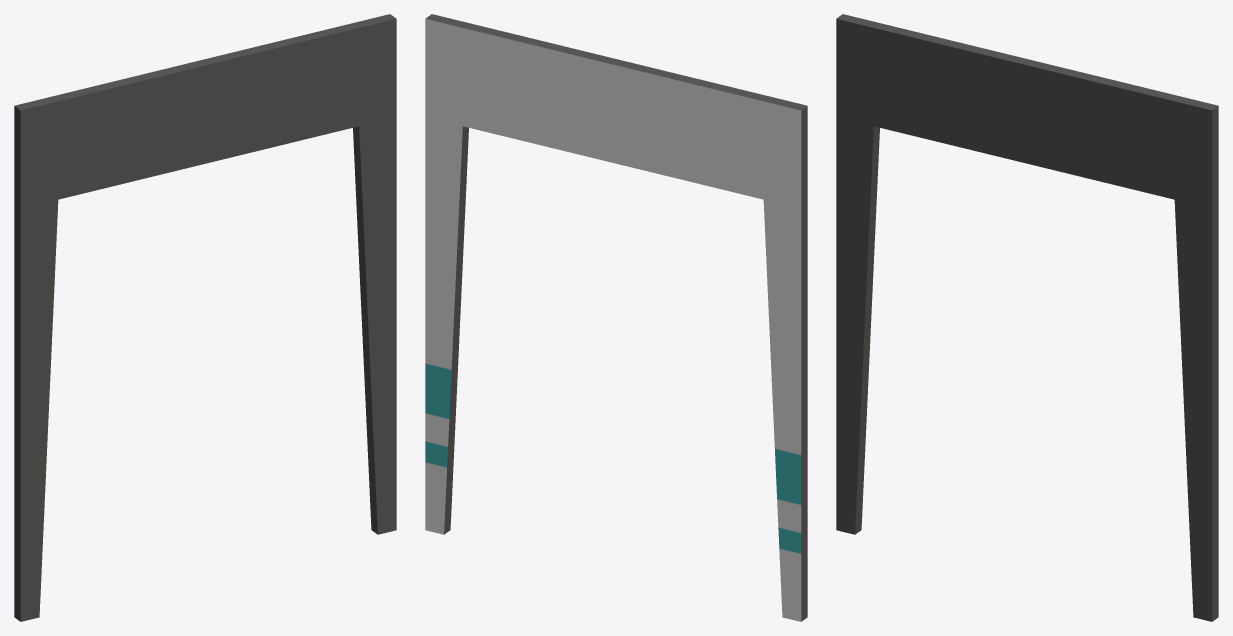
Rendered from door_hole.gltf.
3 views of the same model, side by side, from view 1: azimuth 30°, elevation 25°; view 2: azimuth 150°, elevation 25°; view 3: azimuth 330°, elevation 25° (orthographic).
Visible parts, largest first — view 1: DoorHole; view 2: DoorHole; view 3: DoorHole.
Boxes of the visible parts, x1,y1,x2,y2 form: DoorHole: (14,14,396,621); DoorHole: (425,14,807,621); DoorHole: (836,14,1218,621).
Bounding box in the file's own units: 2 × 2.6 × 0.06.
Materials: 2 (1 with a texture image).
